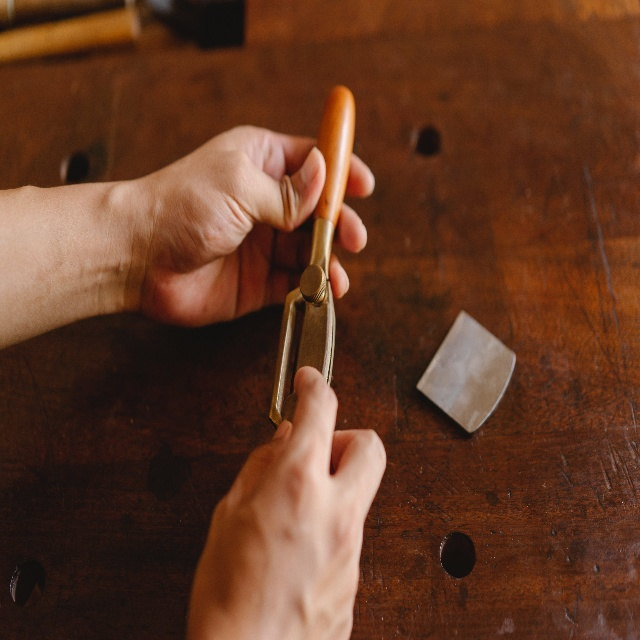Sin_guantes: (186, 365, 386, 640), (131, 123, 376, 330)
